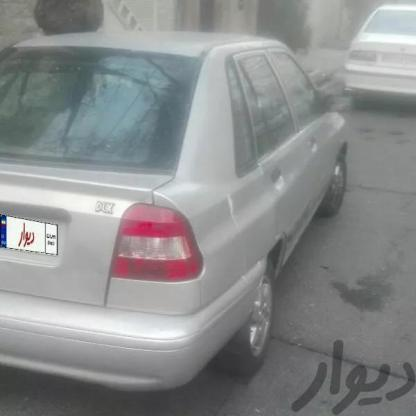Car: (0, 30, 351, 381), (330, 0, 416, 111)
